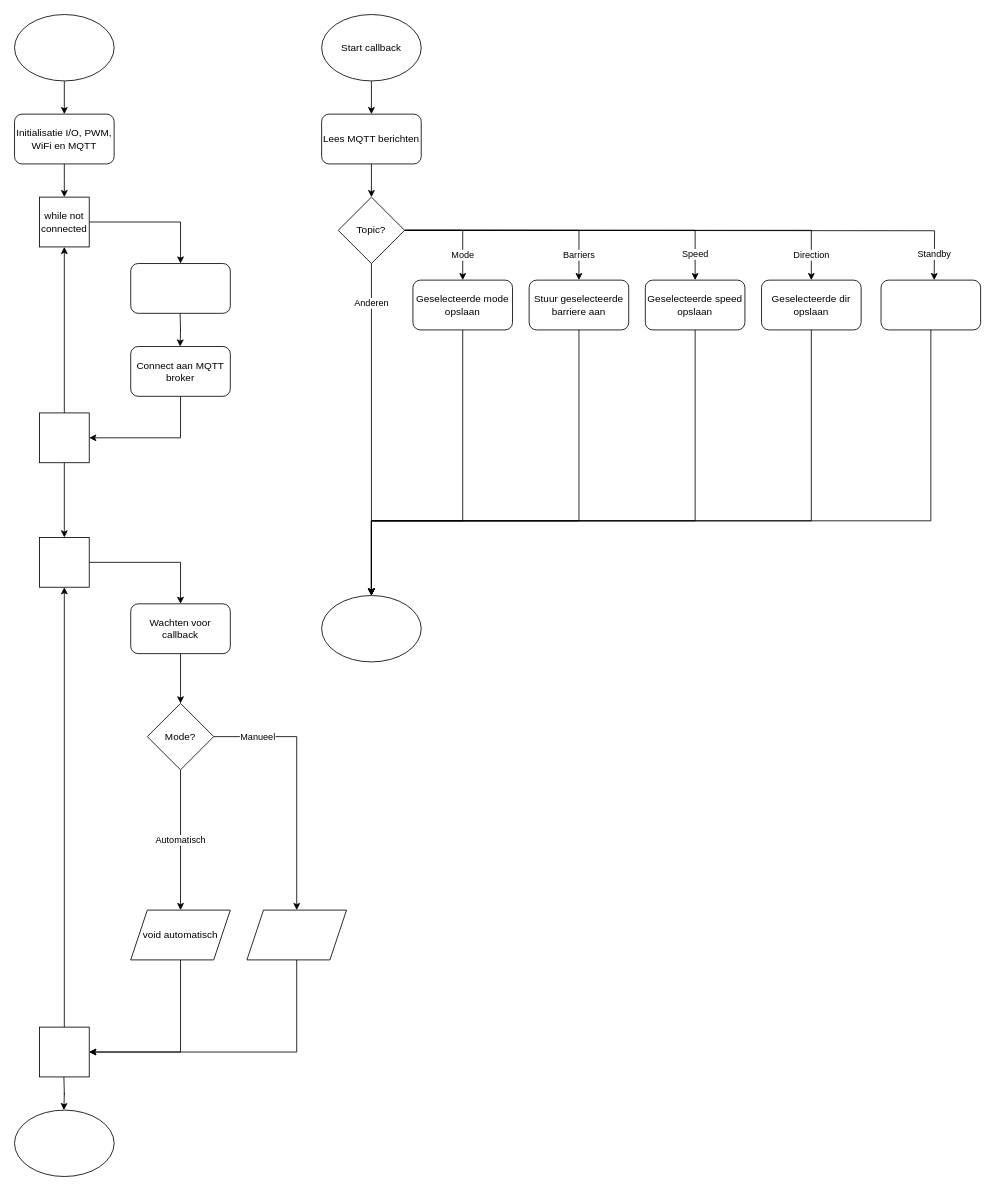
This 995x1191 diagram has some shape labels left out. The shapes that lost their labels are listed below. From the top down, each one's centre as x and y in pixels, then its label:
At point (64, 47): "Start main".
At point (180, 288): "Connect aan Wifi".
At point (930, 304): "Ga in of uit standby mode".
At point (64, 562): "void loop".
At point (371, 628): "End callback".
At point (296, 934): "void manueel".
At point (64, 1143): "End main".
